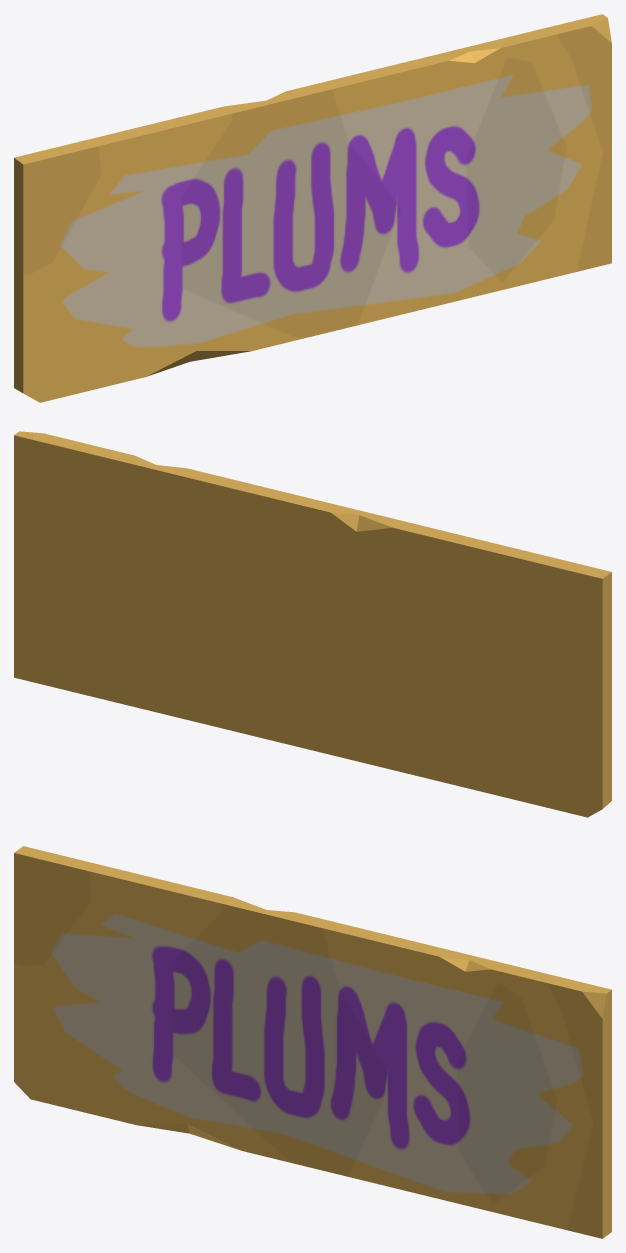
File: SM_Prop_Sign_Plums_01.fbx
3 views of the same model, one above another, from view 1: azimuth 30°, elevation 25°; view 2: azimuth 150°, elevation 25°; view 3: azimuth 330°, elevation 25° (orthographic).
Parts seen in each view (by area): view 1: SM_Prop_Sign_Plums_01; view 2: SM_Prop_Sign_Plums_01; view 3: SM_Prop_Sign_Plums_01.
Boxes of the visible parts, x1=… form: SM_Prop_Sign_Plums_01: x1=14, y1=14, x2=611, y2=402; SM_Prop_Sign_Plums_01: x1=14, y1=431, x2=611, y2=817; SM_Prop_Sign_Plums_01: x1=14, y1=846, x2=611, y2=1238.
Size of the model in its own units: 86.87 by 34.18 by 2.41.
